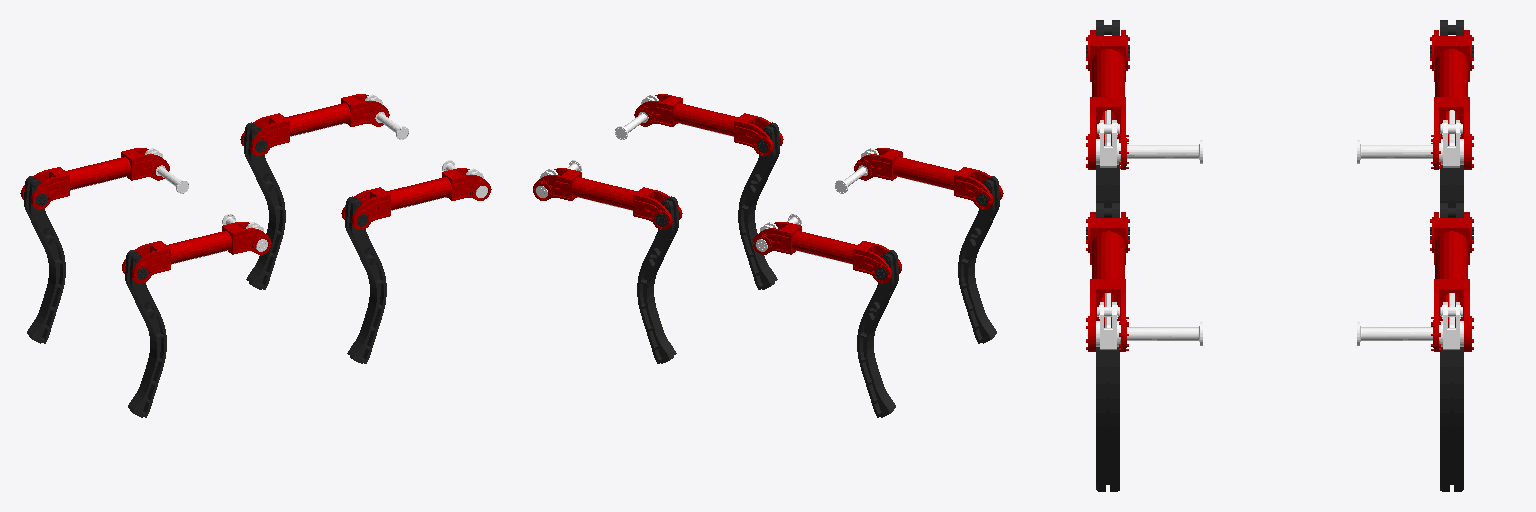
--- Render facts (derived) ---
The picture shows the robot from 3 angles, left to right: view 1: azimuth 30°, elevation 25°; view 2: azimuth 150°, elevation 25°; view 3: azimuth 270°, elevation 25°; orthographic projection.
Model aidinviii with 21 links and 20 joints (12 revolute, 8 fixed), rooted at aidinviii_body, posed every joint at zero.
Visible links, largest first — view 1: RB_Hip, RF_Hip, LB_Hip, LF_Hip, RB_Knee, LB_Knee, RF_Knee, LF_Knee; view 2: LB_Hip, LF_Hip, RB_Hip, RF_Hip, LB_Knee, LF_Knee, RB_Knee, RF_Knee; view 3: LF_Hip, RF_Hip, RB_Hip, LB_Hip, LF_Knee, RF_Knee, RB_link1, LB_link1, LF_link1, RF_link1, RB_Knee, LB_Knee.
Link boxes in pixels (bbox=[...]): RB_Hip: bbox=[122, 222, 271, 283]; RF_Hip: bbox=[341, 168, 491, 229]; LB_Hip: bbox=[20, 148, 169, 209]; LF_Hip: bbox=[240, 94, 389, 155]; RB_Knee: bbox=[125, 250, 166, 417]; LB_Knee: bbox=[24, 176, 65, 343]; RF_Knee: bbox=[345, 196, 386, 363]; LF_Knee: bbox=[244, 122, 285, 289]; LB_Hip: bbox=[752, 222, 901, 283]; LF_Hip: bbox=[533, 168, 682, 229]; RB_Hip: bbox=[854, 148, 1003, 209]; RF_Hip: bbox=[634, 94, 783, 155]; LB_Knee: bbox=[857, 250, 898, 417]; LF_Knee: bbox=[637, 196, 678, 363]; RB_Knee: bbox=[958, 176, 999, 343]; RF_Knee: bbox=[738, 122, 779, 289]; LF_Hip: bbox=[1430, 212, 1473, 351]; RF_Hip: bbox=[1086, 212, 1129, 351]; RB_Hip: bbox=[1086, 30, 1129, 169]; LB_Hip: bbox=[1430, 30, 1473, 169]; LF_Knee: bbox=[1430, 203, 1473, 491]; RF_Knee: bbox=[1086, 203, 1129, 491]; RB_link1: bbox=[1096, 120, 1202, 167]; LB_link1: bbox=[1357, 120, 1463, 167]; LF_link1: bbox=[1357, 302, 1463, 349]; RF_link1: bbox=[1096, 302, 1202, 349]; RB_Knee: bbox=[1086, 20, 1129, 207]; LB_Knee: bbox=[1430, 20, 1473, 207].
Size in the robot's own frame: 1.05 by 0.5794 by 0.4648 metres.
Meshes: 11 distinct files referenced, 16 mesh visuals loaded (6 binary STL); not drawn: 5 (reference not matched to a file when rendering).

URDF robot description (aidinviii):
<?xml version="1.0" ?>
<robot name="aidinviii">
  <material name="black">
      <color rgba="0.0 0.0 0.0 1.0"/>
    </material>
    <material name="blue">
      <color rgba="0.0 0.0 0.8 1.0"/>
    </material>
    <material name="green">
      <color rgba="0.0 0.8 0.0 1.0"/>
    </material>
    <material name="grey">
      <color rgba="0.2 0.2 0.2 1.0"/>
    </material>
    <material name="silver">
      <color rgba="0.913725490196 0.913725490196 0.847058823529 1.0"/>
    </material>
    <material name="orange">
      <color rgba="1.0 0.423529411765 0.0392156862745 1.0"/>
    </material>
    <material name="brown">
      <color rgba="0.870588235294 0.811764705882 0.764705882353 1.0"/>
    </material>
    <material name="red">
      <color rgba="0.8 0.0 0.0 1.0"/>
    </material>
    <material name="yellow">
      <color rgba="0.8 0.8 0.0 1.0"/>
    </material>
    <material name="white">
      <color rgba="1.0 1.0 1.0 1.0"/>
    </material>
<!--//////////////////////////////// L I N K S ////////////////////////////////-->
<!--////////////////////////////////   Body    ////////////////////////////////-->
  <link name="aidinviii_body">
    <inertial>
      <mass value="12.3188555"/>
<!--      <origin xyz="0 0 0" rpy="0 0 0"/>-->
      <origin xyz="0.00142 -0.00222 -0.04319" rpy="0 0 0"/>
      <inertia ixx="0.1104557116459" ixy="0.0002742627834" ixz="-0.0007826805716" iyy="0.2925866863396" iyz="-0.0018014327089" izz="0.3259809298915"/>
    </inertial>
    <collision name="body_1">
      <origin xyz="0.4174 0     1" rpy="0 0 0"/>
      <geometry>
        <box size="0.026 0.318 0.207"/>
      </geometry>
    </collision>
    <collision name="body_2">
      <origin xyz="-0.4174  0      1" rpy="0 0 0"/>
      <geometry>
        <box size="0.026 0.318 0.207"/>
      </geometry>
    </collision>
    <collision name="body_3">
      <origin xyz="0    0.119 1.085" rpy="0      1.57079 0"/>
      <geometry>
        <cylinder radius="0.0102" length="0.8848"/>
      </geometry>
    </collision>
    <collision name="body_4">
      <origin xyz="0    0.119 0.915" rpy="0      1.57079 0"/>
      <geometry>
        <cylinder radius="0.0102" length="0.8848"/>
      </geometry>
    </collision>
    <collision name="body_5">
      <origin xyz="0    -0.119  1.085" rpy="0      1.57079 0"/>
      <geometry>
        <cylinder radius="0.0102" length="0.8848"/>
      </geometry>
    </collision>
    <collision name="body_6">
      <origin xyz="0    -0.119  0.915" rpy="0      1.57079 0"/>
      <geometry>
        <cylinder radius="0.0102" length="0.8848"/>
      </geometry>
    </collision>
    <collision name="body_7" >
      <origin xyz="0 0 1" rpy="0 0 0"/>
      <geometry>
        <mesh filename="../meshes/meshes_surface/Body_AIDIN8.STL" scale="1 1 1"/>
      </geometry>
    </collision>
    <visual name="body_visual">
      <origin xyz="0 0 1" rpy="0 0 0"/>
      <geometry>
        <mesh filename="../meshes/meshes_surface/Body_AIDIN8.STL" scale="1 1 1"/>
      </geometry>
      <material name="silver"/>
    </visual>
  </link>

<!--//////////////////////////////// LF ////////////////////////////////-->

  <link name="LF_Scapular">
    <inertial>
      <mass value="6.3549628"/>
      <origin xyz="0.00223 -0.00011 -0.03491" rpy="0 0 0"/>
      <inertia ixx="0.0268822823205"
               ixy="0.0000315138420"
               ixz="-0.0010398645982"
               iyy="0.0388571979436"
               iyz="-0.0000013704590"
               izz="0.01899889911081"/>
    </inertial>
    <collision name="LF_col1">
      <origin xyz="0      0     -0.0507" rpy="0 0 0"/>
      <geometry>
        <cylinder length="0.2334" radius="0.0535"/>
      </geometry>
    </collision>
    <collision name="LF_col2">
      <origin rpy="0       1.57079  0" xyz="0.0083  0      0"/>
      <geometry>
        <cylinder length="0.1984" radius="0.0535"/>
      </geometry>
    </collision>
    <visual name="LF_Scapular_vis">
      <origin rpy="0  0  0" xyz="0  0  0"/>
      <geometry>
        <mesh filename="../meshes/meshes_surface/Leg_Scapular_LF_stp_v2.STL" scale="1 1 1"/>
      </geometry>
      <material name="black"/>
    </visual>
  </link>

  <link name="LF_Hip">
    <inertial>
      <mass value="0.8592967"/>
      <origin xyz="1.7531e-01 -1.4970e-02 -1.2000e-04" rpy="0 0 0"/>
      <inertia ixx="0.0007326198857" ixy="0.0000038940144" ixz="0.0000188178556" iyy="0.0157450190446" iyz="-0.0000015777889" izz="0.0157308802467"/>
    </inertial>
    <collision name="LF_col3">
      <origin rpy="0  0  0" xyz="0  0  0"/>
      <geometry>
        <cylinder length="0.054" radius="0.027"/>
      </geometry>
    </collision>
    <collision name="LF_col4">
      <origin rpy="0  0  0" xyz="0.055 -0.021  0"/>
      <geometry>
        <box size="0.06 0.06 0.054"/>
      </geometry>
    </collision>
    <collision name="LF_col5">
      <origin rpy="0       1.57079  0" xyz="0.175 -0.021  0"/>
      <geometry>
        <cylinder length="0.18" radius="0.025"/>
      </geometry>
    </collision>
    <collision name="LF_col6">
      <origin rpy="0  0  0" xyz="0.295 -0.021  0"/>
      <geometry>
        <box size="0.06 0.06 0.054"/>
      </geometry>
    </collision>
    <collision name="LF_col7">
      <origin rpy="0  0  0" xyz="0.35    0      0.0245"/>
      <geometry>
        <cylinder length="0.011" radius="0.027"/>
      </geometry>
    </collision>
    <collision name="LF_col8">
      <origin rpy="0  0  0" xyz="0.35    0     -0.0245"/>
      <geometry>
        <cylinder length="0.011" radius="0.027"/>
      </geometry>
    </collision>
    <visual name="LF_Hip_vis">
      <origin rpy="0  0  0" xyz="0  0  0"/>
      <geometry>
        <mesh filename="../meshes/meshes_surface/Leg_Hip_left_stp.STL" scale="1 1 1"/>
      </geometry>
      <material name="red"/>
    </visual>
  </link>

  <link name="LF_Knee">
    <inertial>
      <mass value="0.6608339"/>
      <origin xyz="0.12972 0.01155 0" rpy="0 0 0"/>
      <inertia ixx="0.0004751764324" ixy="0.0012723021758" ixz="-0.0000000145887" iyy="0.0121223799746" iyz="-0.0000000021118" izz="0.0123849356151"/>
    </inertial>
    <collision name="LF_col9">
      <origin rpy="0  0  0" xyz="0.4  0   0"/>
      <geometry>
        <sphere length="0.04" radius="0.024"/>
      </geometry>
    </collision>
    <collision name="LF_col10">
      <origin rpy="0  0  0" xyz="0  0  0"/>
      <geometry>
        <mesh filename="../meshes/meshes_surface/Leg_Knee_stp.STL" scale="1 1 1"/>
      </geometry>
    </collision>
    <visual name="LF_Knee_vis">
      <origin rpy="0  0  0" xyz="0  0  0"/>
      <geometry>
        <mesh filename="../meshes/meshes_surface/Leg_Knee_stp.STL" scale="1 1 1"/>
      </geometry>
      <material name="grey"/>
    </visual>
  </link>

  <link name="LF_link1">
    <inertial>
      <mass value="0.356529"/>
      <origin xyz="0.00728 -0.00049  0.03154" rpy="0 0 0"/>
      <inertia ixx="0.0009733125313" ixy="0.0000022519068" ixz="-0.0000814612402" iyy="0.0010405526310" iyz="0.0000057129200" izz="0.0001182849391"/>
    </inertial>
    <visual name="LF_link1_vis">
      <origin rpy="0  0  0" xyz="0  0  0"/>
      <geometry>
        <mesh filename="../meshes/meshes_surface/Knee_link1_left_stp.STL" scale="1 1 1"/>
      </geometry>
      <material name="white"/>
    </visual>
  </link>

  <link name="LF_link2">
    <inertial>
      <mass value="0.20931"/>
      <origin rpy="0  0  0" xyz="0.175  0     0"/>
      <inertia ixx="0.00000747991" ixy="0" ixz="0" iyy="0.00238918720" iyz="0" izz="0.00239407889"/>
    </inertial>
    <visual name="LF_link2_vis">
      <origin xyz="-0.35  0    0" rpy="0 0 0"/>
      <geometry>
        <mesh filename="../meshes/meshes_surface/Knee_link2_stp.STL" scale="1 1 1"/>
      </geometry>
      <material name="white"/>
    </visual>
  </link>

<!--//////////////////////////////// RF ////////////////////////////////-->
  <link name="RF_Scapular">
    <inertial>
      <mass value="6.3549628"/>
      <origin xyz="2.22e-03 -7.00e-05 -3.49e-02" rpy="0 0 0"/>
      <inertia ixx="0.0268838092963" ixy="-0.0000090031909" ixz="0.0010319405579" iyy="0.0388589753376" iyz="0.0000168509340" izz="0.0189992476926"/>
    </inertial>
    <collision name="RF_col1">
      <origin rpy="0  0  0" xyz="0      0     -0.0507"/>
      <geometry>
        <cylinder length="0.2334" radius="0.0535"/>
      </geometry>
    </collision>
    <collision name="RF_col2">
      <origin rpy="0       1.57079  0" xyz="0.0083  0      0"/>
      <geometry>
        <cylinder length="0.1984" radius="0.0535"/>
      </geometry>
    </collision>
    <visual name="RF_Scapular_vis">
      <origin rpy="0  0  0" xyz="0  0  0"/>
      <geometry>
        <mesh filename="../meshes/meshes_surface/Leg_Scapular_RF_stp_v2.STL" scale="1 1 1"/>
      </geometry>
      <material name="black"/>
    </visual>
  </link>
  <link name="RF_Hip">
    <inertial>
      <mass value="0.8592967"/>
      <origin xyz="1.7531e-01 -1.4970e-02  1.2000e-04" rpy="0 0 0"/>
      <inertia ixx="0.0007326198866" ixy="0.0000038940144" ixz="-0.0000188175364" iyy="0.0157450190455" iyz="0.0000015777233" izz="0.0157308802469"/>
    </inertial>
    <collision name="RF_col3">
      <origin rpy="0 0 0" xyz="0 0 0"/>
      <geometry>
        <cylinder length="0.054" radius="0.027"/>
      </geometry>
    </collision>
    <collision name="RF_col4">
      <origin xyz="0.055 -0.021  0" rpy="0 0 0"/>
      <geometry>
        <box size="0.06 0.06 0.054"/>
      </geometry>
    </collision>
    <collision name="RF_col5">
      <origin xyz="0.175 -0.021  0" rpy="0      1.57079 0"/>
      <geometry>
        <cylinder radius="0.025" length="0.18"/>
      </geometry>
    </collision>
    <collision name="RF_col6">
      <origin xyz="0.295 -0.021  0" rpy="0 0 0"/>
      <geometry>
        <box size="0.06 0.06 0.054"/>
      </geometry>
    </collision>
    <collision name="RF_col7">
      <origin xyz="0.35   0     0.0245" rpy="0 0 0"/>
      <geometry>
        <cylinder radius="0.027" length="0.011"/>
      </geometry>
    </collision>
    <collision name="RF_col8">
      <origin xyz="0.35    0     -0.0245" rpy="0 0 0"/>
      <geometry>
        <cylinder radius="0.027" length="0.011"/>
      </geometry>
    </collision>
    <visual name="RF_Hip_vis">
      <origin rpy="0  0  0" xyz="0  0  0"/>
      <geometry>
        <mesh filename="../meshes/meshes_surface/Leg_Hip_right_stp.STL" scale="1 1 1"/>
      </geometry>
      <material name="red"/>
    </visual>
  </link>
  <link name="RF_Knee">
    <inertial>
      <mass value="0.6608339"/>
      <origin xyz="0.12972 0.01155 0" rpy="0 0 0"/>
      <inertia ixx="0.0004751764324" ixy="0.0012723021758" ixz="-0.0000000145887" iyy="0.0121223799746" iyz="-0.0000000021118" izz="0.0123849356151"/>
    </inertial>
    <collision name="RF_col9">
      <origin xyz="0.4 0  0" rpy="0 0 0"/>
      <geometry>
        <sphere radius="0.024"/>
      </geometry>
    </collision>
    <collision name="RF_col10">
      <origin rpy="0  0  0" xyz="0  0  0"/>
      <geometry>
        <mesh filename="../meshes/meshes_surface/Leg_Knee_stp.STL" scale="1 1 1"/>
      </geometry>
    </collision>
    <visual name="RF_Knee_vis">
      <origin rpy="0  0  0" xyz="0  0  0"/>
      <geometry>
        <mesh filename="../meshes/meshes_surface/Leg_Knee_stp.STL" scale="1 1 1"/>
      </geometry>
      <material name="grey"/>
    </visual>
  </link>

<!--  <link name=RF_Foot">-->
<!--    <inertial>-->
<!--      <mass value="0" />-->
<!--      <origin xys="0 0 0" rpy="0 0 0" />-->
<!--    </inertial>-->
<!--    <collision name="RF_col9">-->
<!--      <origin xyz="0.4 0  0" rpy="0 0 0"/>-->
<!--      <geometry>-->
<!--        <sphere radius="0.024"/>-->
<!--      </geometry>-->
<!--    </collision>-->
<!--  </link>-->

  <link name="RF_link1">
    <inertial>
      <mass value="0.356529"/>
      <origin xyz="0.00726 -0.00049 -0.03152" rpy="0 0 0"/>
      <inertia ixx="0.0009737671712" ixy="0.0000021895727" ixz="0.0000821138402" iyy="0.0010410742162" iyz="-0.0000057093198" izz="0.0001183464867"/>
    </inertial>
    <visual name="RF_link1_vis">
      <origin xyz="0 0 0" rpy="0 0 0"/>
      <geometry>
        <mesh filename="../meshes/meshes_surface/Knee_link1_right_stp.STL" scale="1 1 1"/>
      </geometry>
      <material name="white"/>
    </visual>
  </link>
  <link name="RF_link2">
    <inertial>
      <mass value="0.20931"/>
      <origin xyz="0.175 0    0" rpy="0 0 0"/>
      <inertia ixx="0.00000747991" ixy="0" ixz="0" iyy="0.00238918720" iyz="0" izz="0.00239407889"/>
    </inertial>
    <visual name="RF_link2_vis">
      <origin xyz="-0.35  0    0" rpy="0 0 0"/>
      <geometry>
        <mesh filename="../meshes/meshes_surface/Knee_link2_stp.STL" scale="1 1 1"/>
      </geometry>
      <material name="white"/>
    </visual>
  </link>

<!--//////////////////////////////// RB ////////////////////////////////-->
  <link name="RB_Scapular">
    <inertial>
      <mass value="6.3549628"/>
      <origin xyz="0.00223 0.00011 0.03491" rpy="0 0 0"/>
      <inertia ixx="0.0268822823505" ixy="-0.0000315138420" ixz="-0.0010398645982" iyy="0.0388571979436" iyz="-0.0000013704590" izz="0.0189988991081"/>
    </inertial>
    <collision name="RB_col1">
      <origin rpy="0  0  0" xyz="0      0      0.0507"/>
      <geometry>
        <cylinder length="0.2334" radius="0.0535"/>
      </geometry>
    </collision>
    <collision name="RB_col2">
      <origin rpy="0       1.57079  0" xyz="0.0083  0      0"/>
      <geometry>
        <cylinder length="0.1984" radius="0.0535"/>
      </geometry>
    </collision>
    <visual name="RB_Scapular_vis">
      <origin rpy="0  0  0" xyz="0  0  0"/>
      <geometry>
        <mesh filename="../meshes/meshes_surface/Leg_Scapular_RR_stp_v2.STL" scale="1 1 1"/>
      </geometry>
      <material name="black"/>
    </visual>
  </link>
  <link name="RB_Hip">
    <inertial>
      <mass value="0.8592967"/>
      <origin xyz="1.7531e-01 -1.4970e-02  1.2000e-04" rpy="0 0 0"/>
      <inertia ixx="0.0007326198866" ixy="0.0000038940144" ixz="-0.0000188175364" iyy="0.0157450190455" iyz="0.0000015777233" izz="0.0157308802469"/>
    </inertial>
    <collision name="RB_col3">
      <origin rpy="0  0  0" xyz="0  0  0"/>
      <geometry>
        <cylinder length="0.054" radius="0.027"/>
      </geometry>
    </collision>
    <collision name="RB_col4">
      <origin xyz="0.055 -0.021  0" rpy="0 0 0"/>
      <geometry>
        <box size="0.06 0.06 0.054"/>
      </geometry>
    </collision>
    <collision name="RB_col5">
      <origin rpy="0       1.57079  0" xyz="0.175 -0.021  0"/>
      <geometry>
        <cylinder length="0.18" radius="0.025"/>
      </geometry>
    </collision>
    <collision name="RB_col6">
      <origin rpy="0  0  0" xyz="0.295 -0.021  0"/>
      <geometry>
        <box size="0.06 0.06 0.054"/>
      </geometry>
    </collision>
    <collision name="RB_col7">
      <origin rpy="0  0  0" xyz="0.35    0      0.0245"/>
      <geometry>
        <cylinder length="0.011" radius="0.027"/>
      </geometry>
    </collision>
    <collision name="RB_col8">
      <origin rpy="0  0  0" xyz="0.35    0     -0.0245"/>
      <geometry>
        <cylinder length="0.011" radius="0.027"/>
      </geometry>
    </collision>
    <visual name="RB_Hip_vis">
      <origin rpy="0  0  0" xyz="0  0  0"/>
      <geometry>
        <mesh filename="../meshes/meshes_surface/Leg_Hip_right_stp.STL" scale="1 1 1"/>
      </geometry>
      <material name="red"/>
    </visual>
  </link>
  <link name="RB_Knee">
    <inertial>
      <mass value="0.6608339"/>
      <origin xyz="0.12972 0.01155 0" rpy="0 0 0"/>
      <inertia ixx="0.0004751764324" ixy="0.0012723021758" ixz="-0.0000000145887" iyy="0.0121223799746" iyz="-0.0000000021118" izz="0.0123849356151"/>
    </inertial>
    <collision name="RB_col9">
      <origin xyz="0.4 0  0" rpy="0 0 0"/>
      <geometry>
        <sphere radius="0.024"/>
      </geometry>
    </collision>
    <collision name="RB_col10">
      <origin rpy="0  0  0" xyz="0  0  0"/>
      <geometry>
        <mesh filename="../meshes/meshes_surface/Leg_Knee_stp.STL" scale="1 1 1"/>
      </geometry>
    </collision>
    <visual name="RB_Knee_vis">
      <origin rpy="0  0  0" xyz="0  0  0"/>
      <geometry>
        <mesh filename="../meshes/meshes_surface/Leg_Knee_stp.STL" scale="1 1 1"/>
      </geometry>
      <material name="grey"/>
    </visual>
  </link>
  <link name="RB_link1">
    <inertial>
      <mass value="0.356529"/>
      <origin xyz="0.00726 -0.00049 -0.03152" rpy="0 0 0"/>
      <inertia ixx="0.0009737671712" ixy="0.0000021895727" ixz="0.0000821138402" iyy="0.0010410742162" iyz="-0.0000057093198" izz="0.0001183464867"/>
    </inertial>
    <visual name="RB_link1_vis">
      <origin xyz="0 0 0" rpy="0 0 0"/>
      <geometry>
        <mesh filename="../meshes/meshes_surface/Knee_link1_right_stp.STL" scale="1 1 1"/>
      </geometry>
      <material name="white"/>
    </visual>
  </link>
  <link name="RB_link2">
    <inertial>
      <mass value="0.20931"/>
      <origin xyz="0.175 0    0" rpy="0 0 0"/>
      <inertia ixx="0.00000747991" ixy="0" ixz="0" iyy="0.00238918720" iyz="0" izz="0.00239407889"/>
    </inertial>
    <visual name="RB_link2_vis">
      <origin xyz="-0.35  0    0" rpy="0 0 0"/>
      <geometry>
        <mesh filename="../meshes/meshes_surface/Knee_link2_stp.STL" scale="1 1 1"/>
      </geometry>
      <material name="white"/>
    </visual>
  </link>

<!--//////////////////////////////// LB ////////////////////////////////-->

  <link name="LB_Scapular">
    <inertial>
      <mass value="6.3549628"/>
      <origin xyz="2.22e-03 -7.00e-05  3.49e-02" rpy="0 0 0"/>
      <inertia ixx="0.0268838092963" ixy="0.0000090031909" ixz="-0.0010319405579" iyy="0.0388589753376" iyz="0.0000168509340" izz="0.0189992476926"/>
    </inertial>
    <collision name="LB_col1">
      <origin rpy="0  0  0" xyz="0      0      -0.0507"/>
      <geometry>
        <cylinder length="0.2334" radius="0.0535"/>
      </geometry>
    </collision>
    <collision name="LB_col2">
      <origin rpy="0       1.57079  0" xyz="0.0083  0      0"/>
      <geometry>
        <cylinder length="0.1984" radius="0.0535"/>
      </geometry>
    </collision>
    <visual name="LB_Scapular_vis">
      <origin rpy="0  0  0" xyz="0  0  0"/>
      <geometry>
        <mesh filename="../meshes/meshes_surface/Leg_Scapular_LR_stp_v2.STL" scale="1 1 1"/>
      </geometry>
      <material name="black"/>
    </visual>
  </link>
  <link name="LB_Hip">
    <inertial>
      <mass value="0.8592967"/>
      <origin xyz="1.7531e-01 -1.4970e-02 -1.2000e-04" rpy="0 0 0"/>
      <inertia ixx="0.0007326198857" ixy="0.0000038940144" ixz="0.0000188178556" iyy="0.0157450190446" iyz="-0.0000015777889" izz="0.0157308802467"/>
    </inertial>
    <collision name="LB_col3">
      <origin rpy="0  0  0" xyz="0  0  0"/>
      <geometry>
        <cylinder length="0.054" radius="0.027"/>
      </geometry>
    </collision>
    <collision name="LB_col4">
      <origin rpy="0  0  0" xyz="0.055 -0.021  0"/>
      <geometry>
        <box size="0.06 0.06 0.054"/>
      </geometry>
    </collision>
    <collision name="LB_col5">
      <origin rpy="0       1.57079  0" xyz="0.175 -0.021  0"/>
      <geometry>
        <cylinder length="0.18" radius="0.025"/>
      </geometry>
    </collision>
    <collision name="LB_col6">
      <origin rpy="0  0  0" xyz="0.295 -0.021  0"/>
      <geometry>
        <box size="0.06 0.06 0.054"/>
      </geometry>
    </collision>
    <collision name="LB_col7">
      <origin rpy="0  0  0" xyz="0.35    0      0.0245"/>
      <geometry>
        <cylinder length="0.011" radius="0.027"/>
      </geometry>
    </collision>
    <collision name="LB_col8">
      <origin rpy="0  0  0" xyz="0.35    0     -0.0245"/>
      <geometry>
        <cylinder length="0.011" radius="0.027"/>
      </geometry>
    </collision>
    <visual name="LB_Hip_vis">
      <origin rpy="0  0  0" xyz="0  0  0"/>
      <geometry>
        <mesh filename="../meshes/meshes_surface/Leg_Hip_left_stp.STL" scale="1 1 1"/>
      </geometry>
      <material name="red"/>
    </visual>
  </link>
  <link name="LB_Knee">
    <inertial>
      <mass value="0.6608339"/>
      <origin xyz="0.12972 0.01155 0" rpy="0 0 0"/>
      <inertia ixx="0.0004751764324" ixy="0.0012723021758" ixz="-0.0000000145887" iyy="0.0121223799746" iyz="-0.0000000021118" izz="0.0123849356151"/>
    </inertial>
    <collision name="LB_col9">
      <origin xyz="0.4 0  0" rpy="0 0 0"/>
      <geometry>
        <sphere radius="0.024"/>
      </geometry>
    </collision>
    <collision name="LB_col10">
      <origin rpy="0  0  0" xyz="0  0  0"/>
        <geometry>
          <mesh filename="../meshes/meshes_surface/Leg_Knee_stp.STL" scale="1 1 1"/>
        </geometry>
    </collision>
    <visual name="LB_Knee_vis">
      <origin rpy="0  0  0" xyz="0  0  0"/>
      <geometry>
        <mesh filename="../meshes/meshes_surface/Leg_Knee_stp.STL" scale="1 1 1"/>
      </geometry>
      <material name="grey"/>
    </visual>
  </link>
  <link name="LB_link1">
    <inertial>
      <mass value="0.356529"/>
      <origin xyz="0.00728 -0.00049  0.03154" rpy="0 0 0"/>
      <inertia ixx="0.0009733125313" ixy="0.0000022519068" ixz="-0.0000814612402" iyy="0.0010405526310" iyz="0.0000057129200" izz="0.0001182849391"/>
    </inertial>
    <visual name="LB_link1_vis">
      <origin rpy="0  0  0" xyz="0  0  0"/>
      <geometry>
        <mesh filename="../meshes/meshes_surface/Knee_link1_left_stp.STL" scale="1 1 1"/>
      </geometry>
      <material name="white"/>
    </visual>
  </link>
  <link name="LB_link2">
    <inertial>
      <mass value="0.20931"/>
      <origin rpy="0  0  0" xyz="0.175  0     0"/>
      <inertia ixx="0.00000747991" ixy="0" ixz="0" iyy="0.00238918720" iyz="0" izz="0.00239407889"/>
    </inertial>
    <visual name="LB_link2_vis">
      <origin rpy="0  0  0" xyz="0  0    0"/>
      <geometry>
        <mesh filename="../meshes/meshes_surface/Knee_link2_stp.STL" scale="1 1 1"/>
      </geometry>
      <material name="white"/>
    </visual>
  </link>

<!--//////////////////////////////// J O I N T S ////////////////////////////////-->

  <joint name="LFJ1" type="revolute">
    <parent link="aidinviii_body"/>
    <child link="LF_Scapular"/>
    <origin xyz="0.3224 0.119  1" rpy="1.57079 0      1.57079"/>
    <axis xyz="0 0 1"/>
    <limit lower="-0.6981317008" upper="0.6981317008" effort="200.0" velocity="15.5"/>
  </joint>
  <joint name="LFJ2" type="revolute">
    <parent link="LF_Scapular"/>
    <child link="LF_Hip"/>
    <origin xyz="0.13769 0      0" rpy="1.559    1.57079  -1.58259"/>
    <axis xyz="0 0 1"/>
    <limit lower="-10.0" upper="10.0" effort="200.0" velocity="15.5"/>
  </joint>
  <joint name="LFJ3" type="fixed">
    <parent link="LF_Scapular"/>
    <child link="LF_link1"/>
    <origin xyz="0.13769 0      0" rpy="-1.57079  0.17453  1.57079"/>
    <axis xyz="0 0 1"/>
<!--    <limit lower="-10.0" upper="10.0" effort="200.0" velocity="15.5"/>-->
  </joint>
  <joint name="LFJ4" type="revolute">
    <parent link="LF_Hip"/>
    <child link="LF_Knee"/>
    <origin xyz="0.35 0   0" rpy="0      0      1.57079"/>
    <axis xyz="0 0 1"/>
    <limit lower="-1.047197551" upper="1.134464" effort="200.0" velocity="15.5"/>
<!--    <limit lower="-1.047197551" upper="1.570796327" effort="200.0" velocity="15.5"/>-->
  </joint>
  <joint name="LFJ5" type="fixed">
    <parent link="LF_Hip"/>
    <child link="LF_link2"/>
    <origin xyz="0   0    0" rpy="0      0      3.14159"/>
    <axis xyz="0 0 1"/>
  </joint>

  <joint name="RFJ1" type="revolute">
    <parent link="aidinviii_body"/>
    <child link="RF_Scapular"/>
    <origin xyz="0.3224 -0.119   1" rpy="-1.57079  0      -1.57079"/>
    <axis xyz="0  0  1"/>
    <limit lower="-0.6981317008" upper="0.6981317008" effort="200.0" velocity="15.5"/>
  </joint>
  <joint name="RFJ2" type="revolute">
    <parent link="RF_Scapular"/>
    <child link="RF_Hip"/>
    <origin xyz="0.13769 0      0" rpy="1.58259  1.57079 1.58259"/>
    <axis xyz="0  0  1"/>
    <limit lower="-10.0" upper="10.0" effort="200.0" velocity="15.5"/>
  </joint>
  <joint name="RFJ3" type="fixed">
    <parent link="RF_Scapular"/>
    <child link="RF_link1"/>
    <origin xyz="0.13769 0      0" rpy="-1.57079  0.17453 -1.57079"/>
    <axis xyz="0 0 1"/>
<!--    <limit lower="-10.0" upper="10.0" effort="200.0" velocity="15.5"/>-->
  </joint>
  <joint name="RFJ4" type="revolute">
    <parent link="RF_Hip"/>
    <child link="RF_Knee"/>
    <origin xyz="0.35 0   0" rpy="0      0      1.57079"/>
    <axis xyz="0 0 1"/>
    <limit lower="-1.047197551" upper="1.134464" effort="200.0" velocity="15.5"/>
<!--    <limit lower="-1.047197551" upper="1.570796327" effort="200.0" velocity="15.5"/>-->
  </joint>
  <joint name="RFJ5" type="fixed">
    <parent link="RF_Hip"/>
    <child link="RF_link2"/>
    <origin xyz="0    0    0" rpy="0      0      3.14159"/>
    <axis xyz="0 0 1"/>
  </joint>
<!--  <joint name="RFJ6" type="fixed">-->
<!--    <parent link="RF_Knee"/>-->
<!--    <child link="RF_Foot"/>-->
<!--    <origin xyz="0    0    0" rpy="0      0      3.14159"/>-->
<!--    <axis xyz="0 0 1"/>-->
<!--  </joint>-->

  <joint name="RBJ1" type="revolute">
    <parent link="aidinviii_body"/>
    <child link="RB_Scapular"/>
    <origin xyz="-0.3224 -0.119   1" rpy="-1.57079  0      -1.57079"/>
    <axis xyz="0 0 1"/>
    <limit lower="-0.6981317008" upper="0.6981317008" effort="200.0" velocity="15.5"/>
  </joint>
  <joint name="RBJ2" type="revolute">
    <parent link="RB_Scapular"/>
    <child link="RB_Hip"/>
    <origin xyz="0.13769 0      0" rpy="1.58259  1.57079 1.58259"/>
    <axis xyz="0 0 1"/>
    <limit lower="-10.0" upper="10.0" effort="200.0" velocity="15.5"/>
  </joint>
  <joint name="RBJ3" type="fixed">
    <parent link="RB_Scapular"/>
    <child link="RB_link1"/>
    <origin xyz="0.13769 0      0" rpy="-1.57079  0.17453 -1.57079"/>
    <axis xyz="0 0 1"/>
  </joint>
  <joint name="RBJ4" type="revolute">
    <parent link="RB_Hip"/>
    <child link="RB_Knee"/>
    <origin xyz="0.35 0   0" rpy="0      0      1.57079"/>
    <axis xyz="0 0 1"/>
    <limit lower="-1.047197551" upper="1.134464" effort="200.0" velocity="15.5"/>
<!--    <limit lower="-1.047197551" upper="1.570796327" effort="200.0" velocity="15.5"/>-->
  </joint>
  <joint name="RBJ5" type="fixed">
    <parent link="RB_Hip"/>
    <child link="RB_link2"/>
    <origin xyz="0    0    0" rpy="0      0      3.14159"/>
    <axis xyz="0 0 1"/>
  </joint>

  <joint name="LBJ1" type="revolute">
    <parent link="aidinviii_body"/>
    <child link="LB_Scapular"/>
    <origin xyz="-0.3224  0.119   1" rpy="1.57079 0      1.57079"/>
    <axis xyz="0 0 1"/>
    <limit lower="-0.6981317008" upper="0.6981317008" effort="200.0" velocity="15.5"/>
  </joint>
  <joint name="LBJ2" type="revolute">
    <parent link="LB_Scapular"/>
    <child link="LB_Hip"/>
    <origin xyz="0.13769 0      0" rpy="1.559    1.57079  -1.58259"/>
    <axis xyz="0 0 1"/>
    <limit lower="-10.0" upper="10.0" effort="200.0" velocity="15.5"/>
  </joint>
  <joint name="LBJ3" type="fixed">
    <parent link="LB_Scapular"/>
    <child link="LB_link1"/>
    <origin xyz="0.13769 0      0" rpy="-1.57079  0.17453  1.57079"/>
    <axis xyz="0 0 1"/>
  </joint>
  <joint name="LBJ4" type="revolute">
    <parent link="LB_Hip"/>
    <child link="LB_Knee"/>
    <origin xyz="0.35 0   0" rpy="0      0      1.57079"/>
    <axis xyz="0 0 1"/>
    <limit lower="-1.047197551" upper="1.134464" effort="200.0" velocity="15.5"/>
<!--    <limit lower="-1.047197551" upper="1.570796327" effort="200.0" velocity="15.5"/>-->
  </joint>
  <joint name="LBJ5" type="fixed">
    <parent link="LB_Hip"/>
    <child link="LB_link2"/>
    <origin xyz="0    0    0" rpy="0      0      0"/>
    <axis xyz="0 0 1"/>
  </joint>

</robot>
